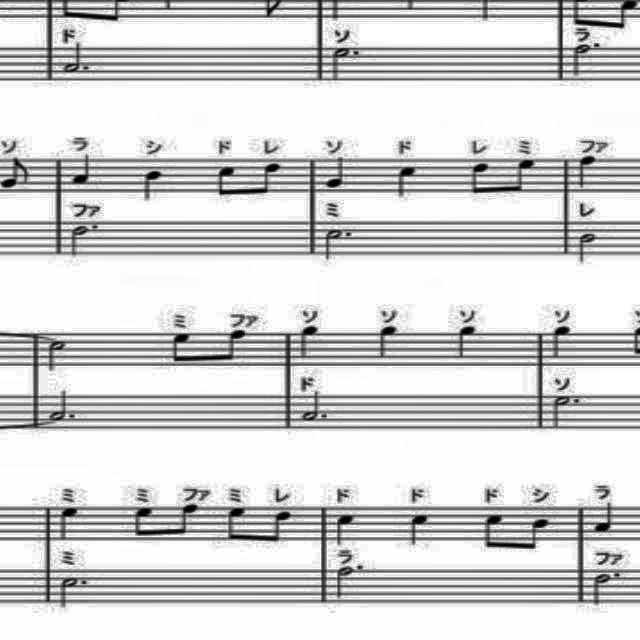Eighth-note: (170, 502, 206, 546), (480, 508, 510, 556), (520, 512, 552, 556), (220, 504, 252, 548), (504, 154, 536, 196), (0, 155, 34, 193), (211, 162, 241, 202), (269, 507, 295, 553), (130, 502, 154, 550), (170, 328, 196, 372), (256, 158, 284, 198), (466, 158, 494, 198), (223, 324, 247, 368)
Half-dot: (328, 558, 376, 606), (316, 228, 364, 268), (586, 566, 628, 610), (56, 570, 96, 614), (56, 38, 98, 78), (568, 39, 606, 81), (297, 385, 335, 427), (43, 386, 81, 426), (546, 391, 584, 431), (330, 42, 362, 86), (67, 220, 101, 260)
Half-note: (46, 337, 74, 375)
Quarter-note: (366, 322, 402, 360), (58, 504, 86, 548), (65, 150, 98, 187), (137, 167, 169, 205), (391, 162, 421, 202), (589, 498, 619, 536), (328, 511, 356, 549), (572, 153, 600, 189), (404, 512, 431, 548), (298, 322, 322, 362), (454, 322, 478, 362), (548, 321, 572, 361), (325, 154, 351, 190)
